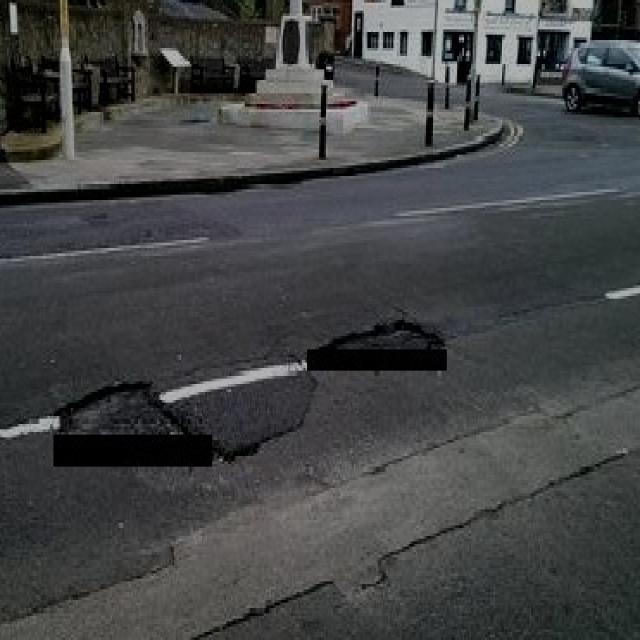road-pothole: (48, 376, 196, 435), (327, 317, 447, 350)
